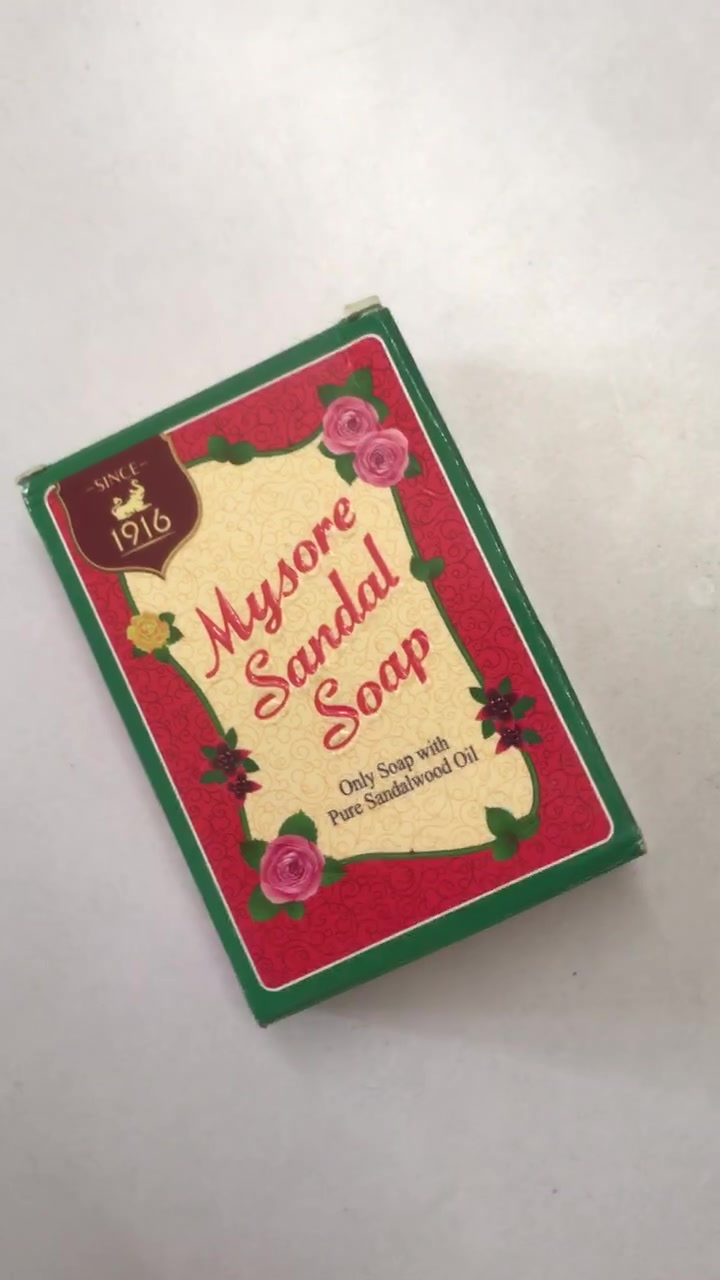mysore sandal soap: (24, 307, 645, 1032)
